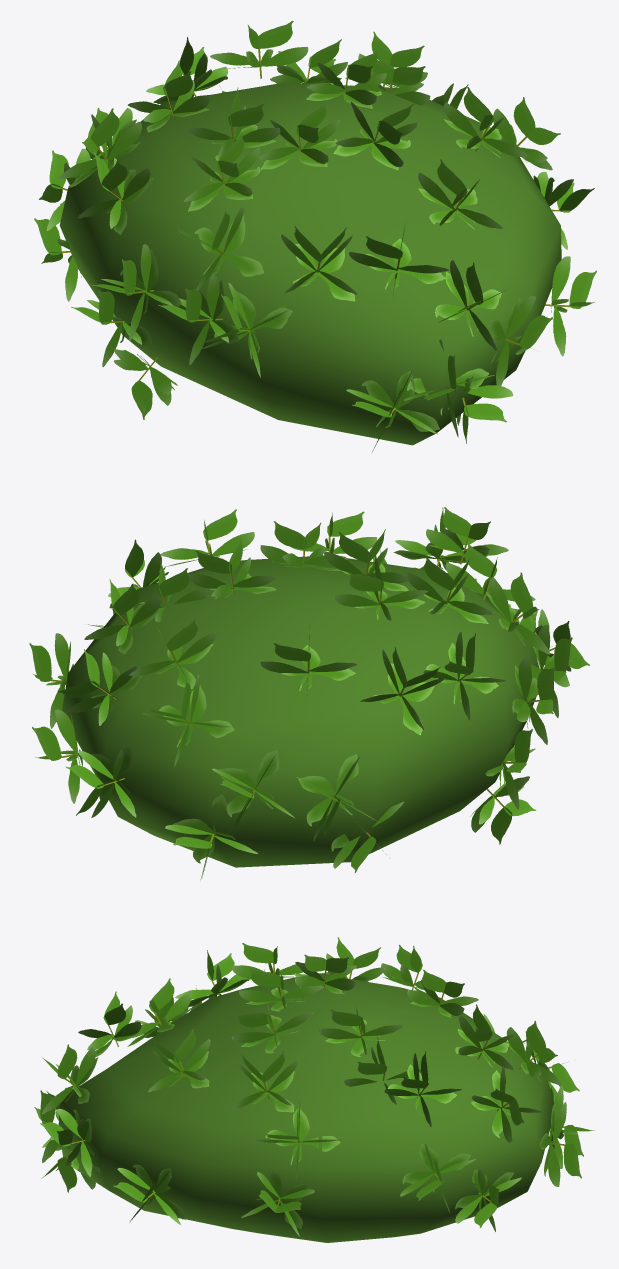
File: Bladeren1MeshLOD.fbx
3 views of the same model, one above another, from view 1: azimuth 30°, elevation 25°; view 2: azimuth 150°, elevation 25°; view 3: azimuth 270°, elevation 25° (orthographic). The views are drawn at different scales.
Visible parts, largest first — view 1: group15; view 2: group15; view 3: group15.
Boxes of the visible parts, x1,y1,x2,y2 form: group15: [34, 20, 596, 453]; group15: [29, 507, 589, 879]; group15: [34, 937, 594, 1242].
Size of the model in its own units: 8.38 by 4.82 by 10.12.
